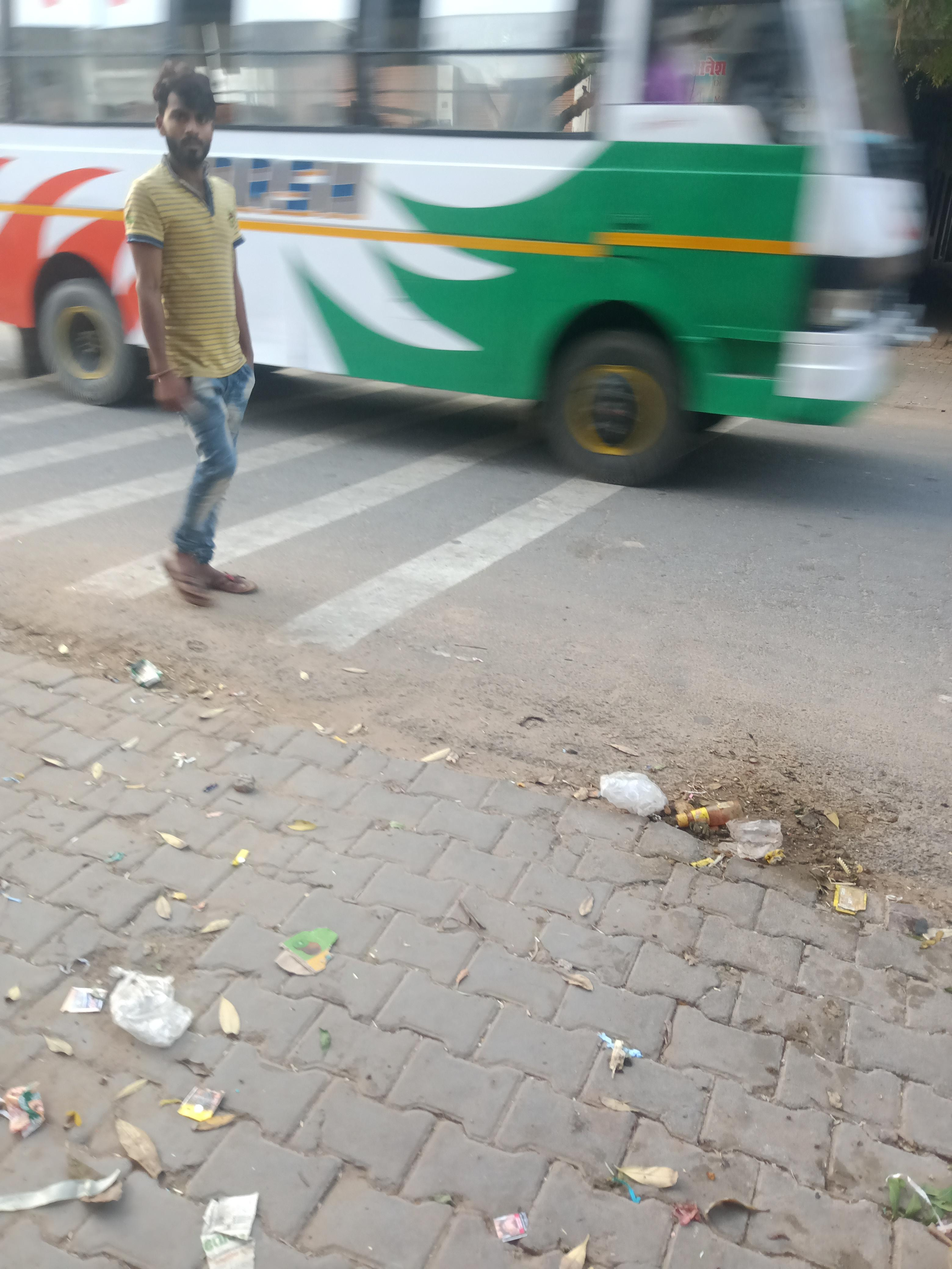non-ambulance: (22, 14, 952, 508)
